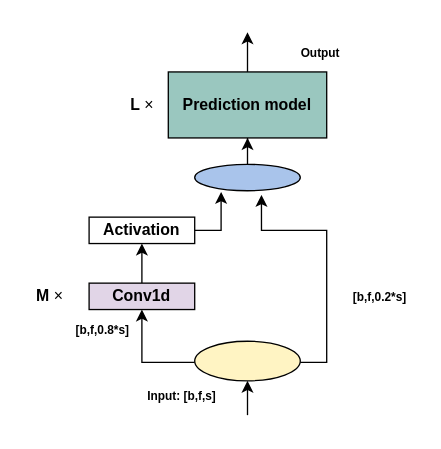
Image size: 441x449. Some labels were removed from this diagram. Here are the shapes that lost their labels. From the top down, the box of each, then its label:
(193, 163, 300, 191): Addition
(193, 340, 300, 381): Split factor
